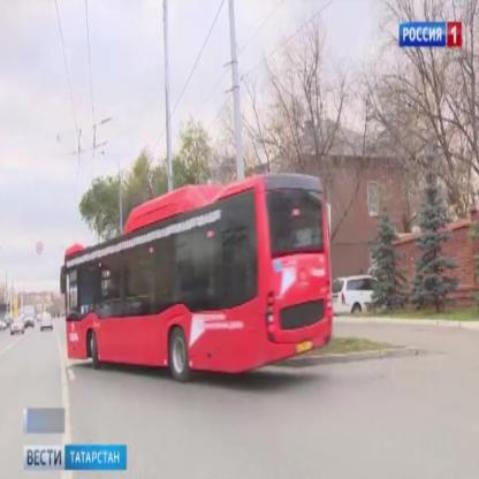bus: (58, 173, 336, 386)
car: (329, 274, 393, 322), (7, 319, 26, 335), (38, 315, 54, 331)
